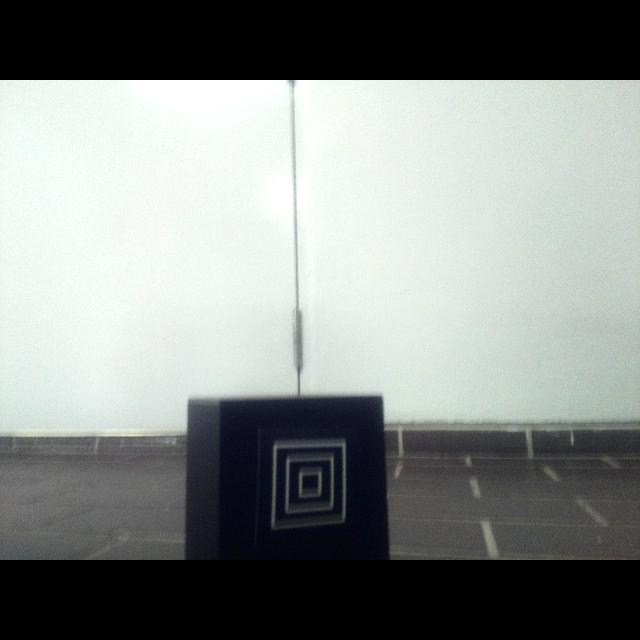BULLSEYE: (272, 440, 345, 530)
